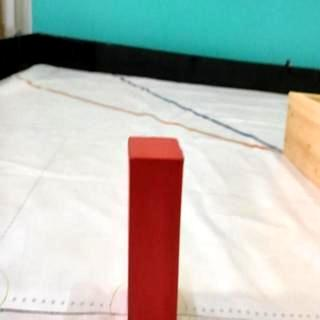redbox: (128, 133, 184, 320)
